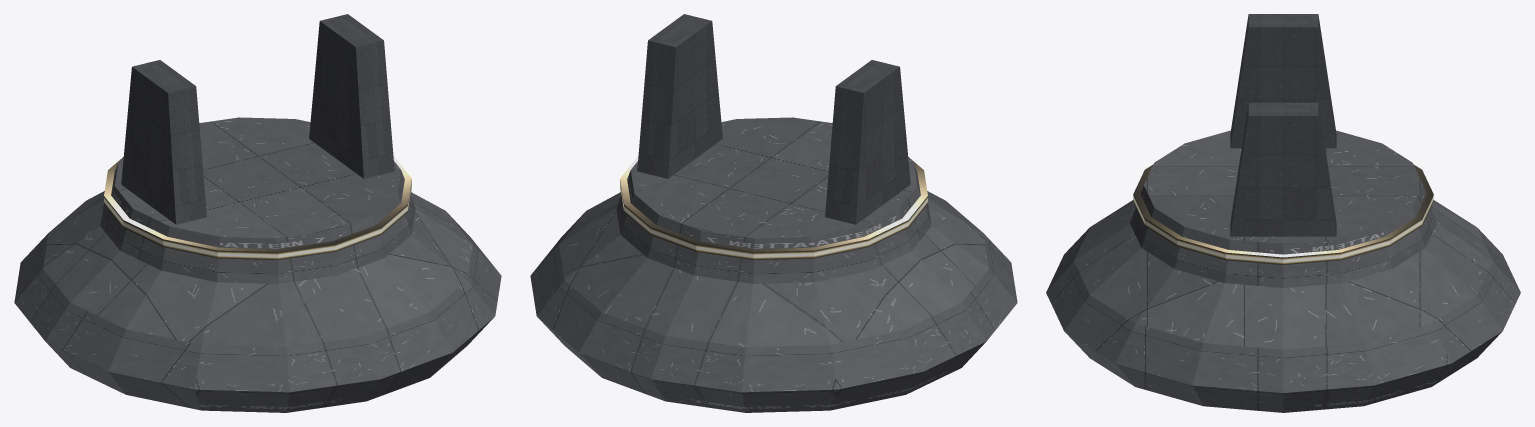
Rendered from veh_aegis_pdw_base.obj.
The picture shows the model from 3 angles, left to right: view 1: azimuth 30°, elevation 25°; view 2: azimuth 150°, elevation 25°; view 3: azimuth 270°, elevation 25°; orthographic projection. The views are drawn at different scales.
Parts seen in each view (by area): view 1: veh_aegis_pdw_base; view 2: veh_aegis_pdw_base; view 3: veh_aegis_pdw_base.
Part boxes in pixels (left/top/right/bottom): veh_aegis_pdw_base: left=14, top=14, right=501, bottom=412; veh_aegis_pdw_base: left=530, top=14, right=1017, bottom=412; veh_aegis_pdw_base: left=1046, top=14, right=1520, bottom=412.
Size of the model in its own units: 0.68 by 0.41 by 0.68.
Materials: 1 (1 with a texture image).
